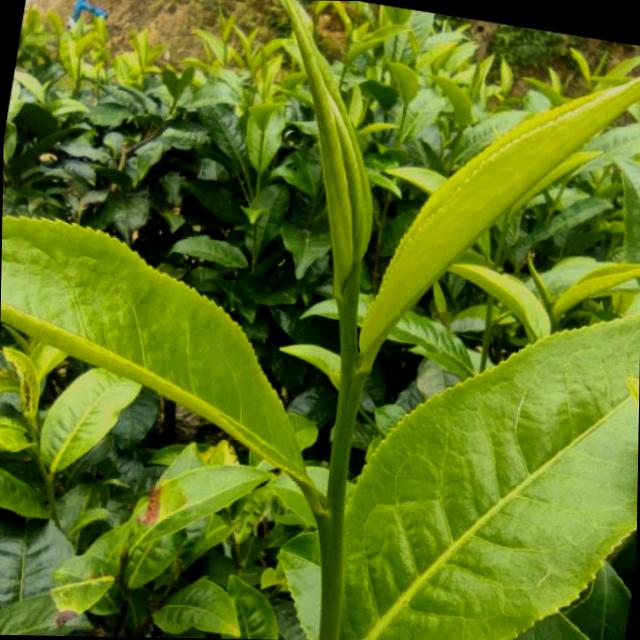Stem: (338, 368, 368, 399)
